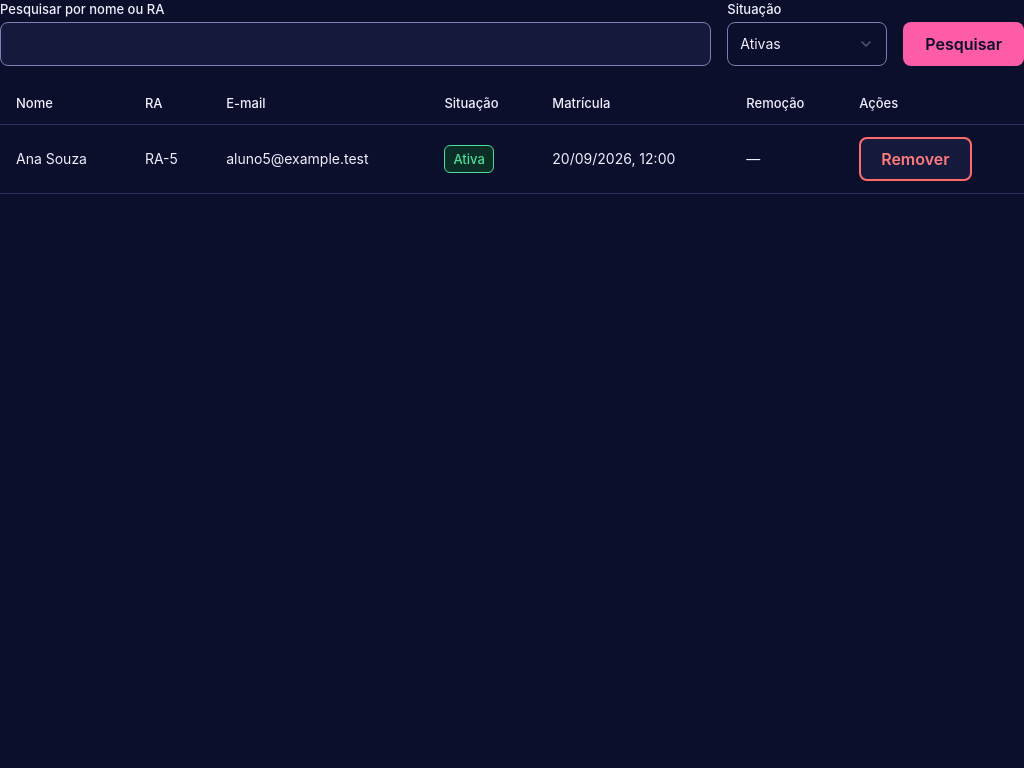
Test case: 003/US6-1 003/US6-2 003/US6-3 ClassStudentsTab (FR-044, FR-045) › recusa da API (turma arquivada) aparece no resumo
The image size is (1024, 768).
Click the button with aria-label "Remover Ana Souza da turma" at (915, 159), box left=859, top=137, right=972, bottom=181
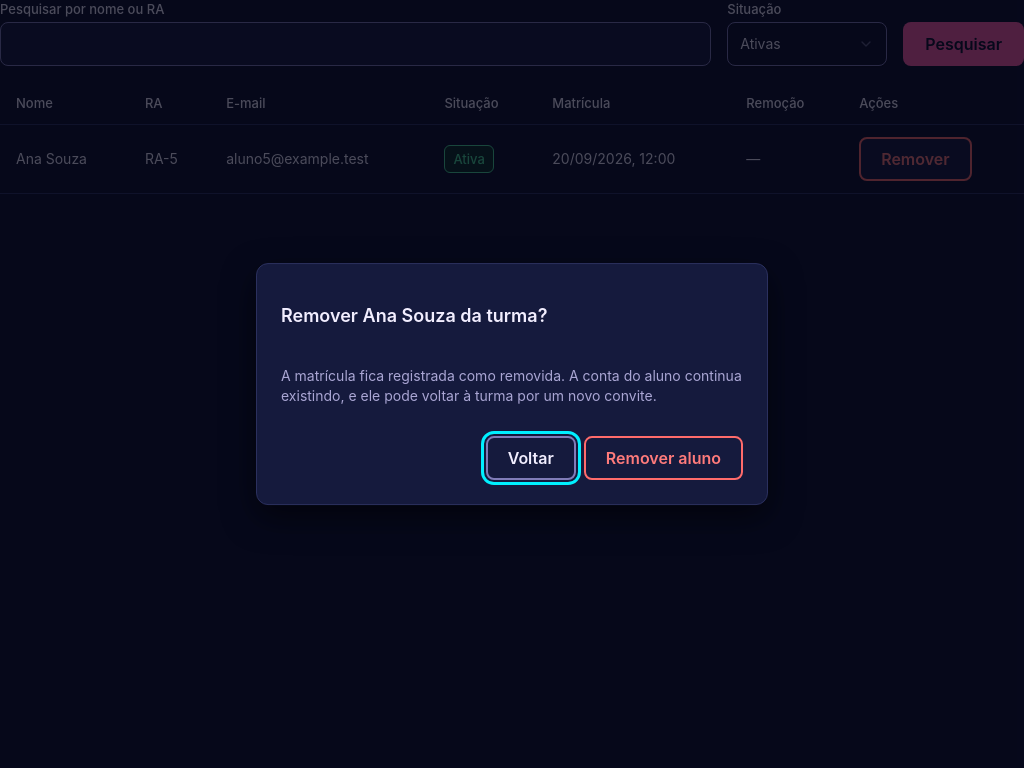
Click the button "Remover aluno" at (663, 458), box left=584, top=436, right=743, bottom=480
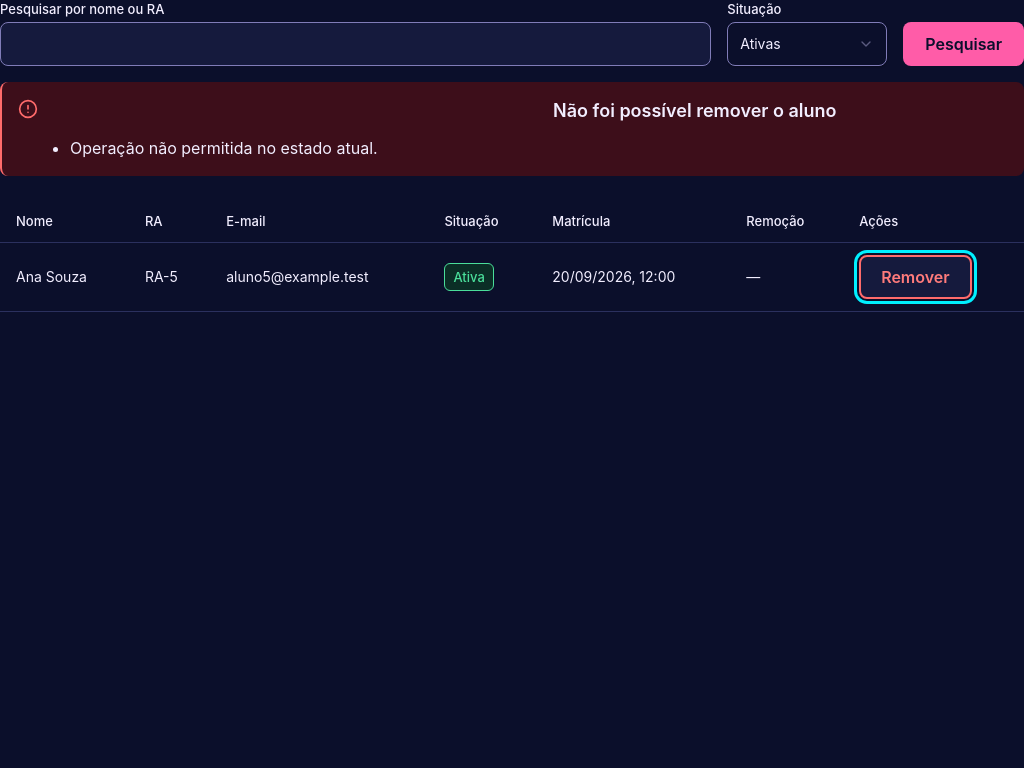
expect the element "Não foi possível remover o aluno" is shown: met, box left=0, top=82, right=1023, bottom=176
